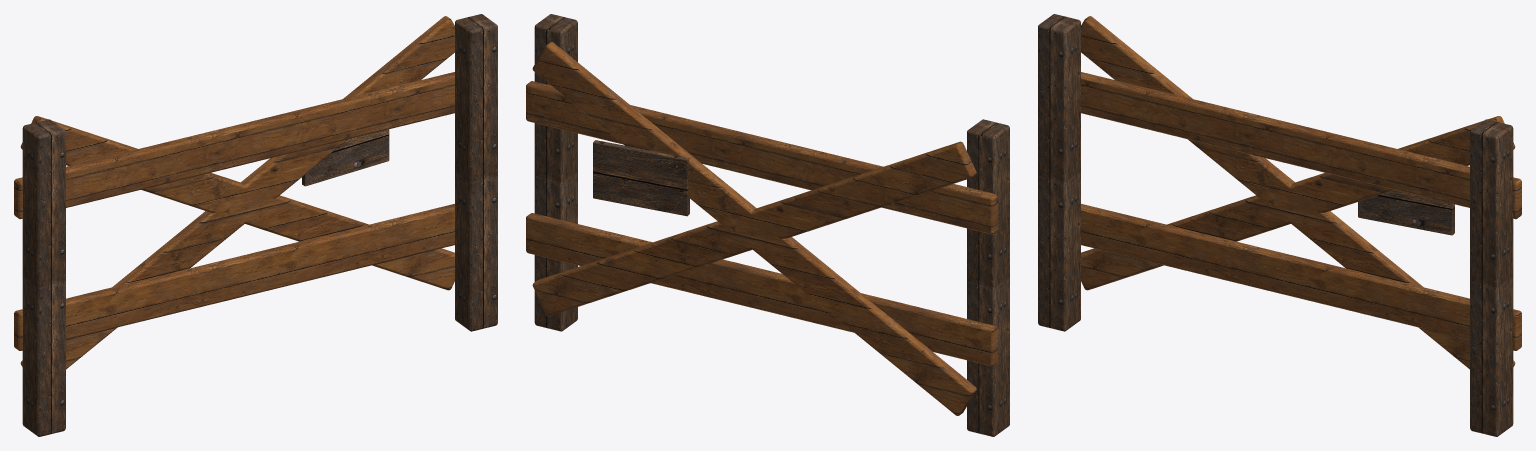
File: mine-barricade-v01.glb
3 renders of one model, left to right at view 1: azimuth 30°, elevation 25°; view 2: azimuth 150°, elevation 25°; view 3: azimuth 330°, elevation 25°, orthographic.
Parts seen in each view (by area): view 1: mine-barricade; view 2: mine-barricade; view 3: mine-barricade.
Part boxes in pixels (bbox=[...]): mine-barricade: bbox=[14, 14, 497, 436]; mine-barricade: bbox=[526, 14, 1009, 436]; mine-barricade: bbox=[1038, 14, 1521, 436].
Size of the model in its own units: 2.6 by 1.6 by 0.3395.
Materials: 2 (2 with a texture image).
